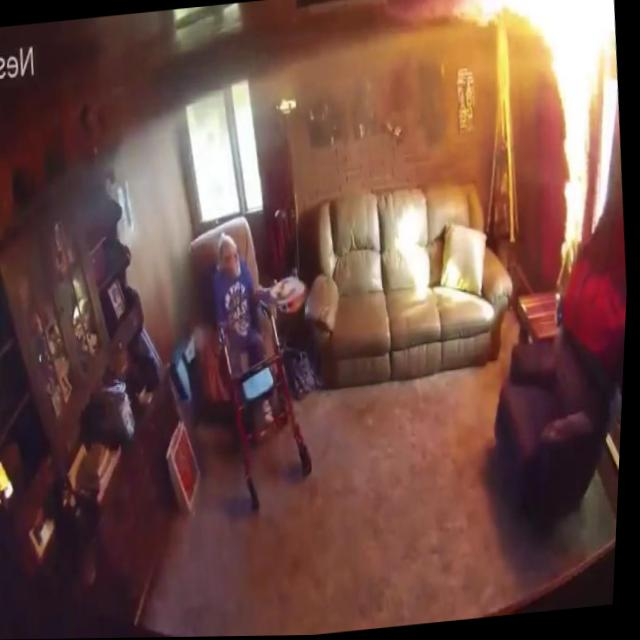fire: (536, 0, 617, 270), (448, 0, 615, 45)
